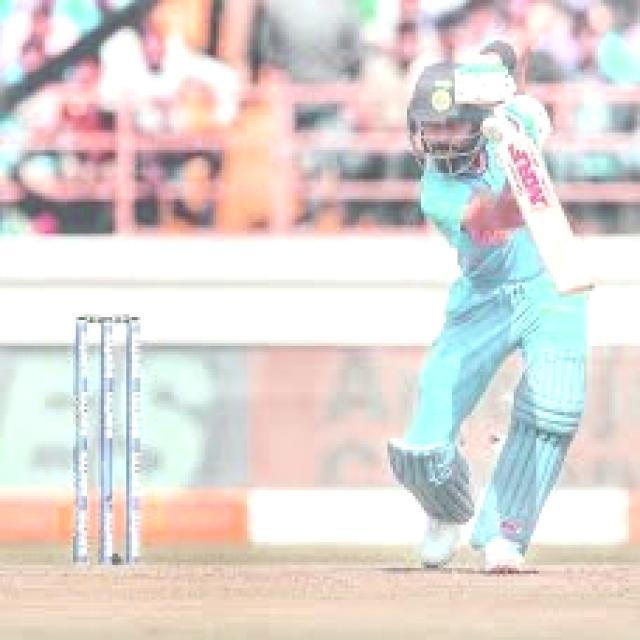bat: (463, 118, 627, 310)
toe: (557, 276, 599, 303)
